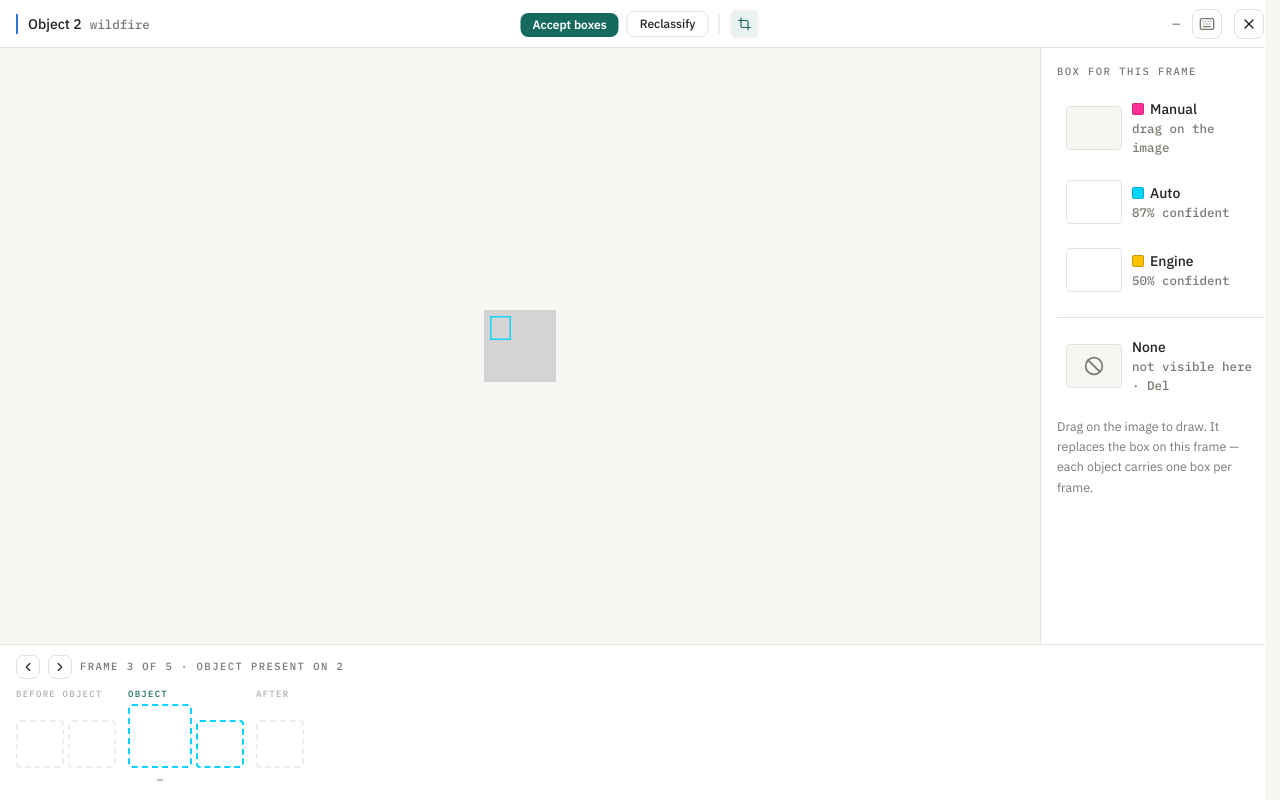
LocalizeObjectEditor › drops the preview when peeking out of range, so it is not stale on return
The width and height of the screenshot is (1280, 800).
Hover over the button with test id "source-row-engine".
mouse_move(1160, 270)  # box [1057,239,1264,301]
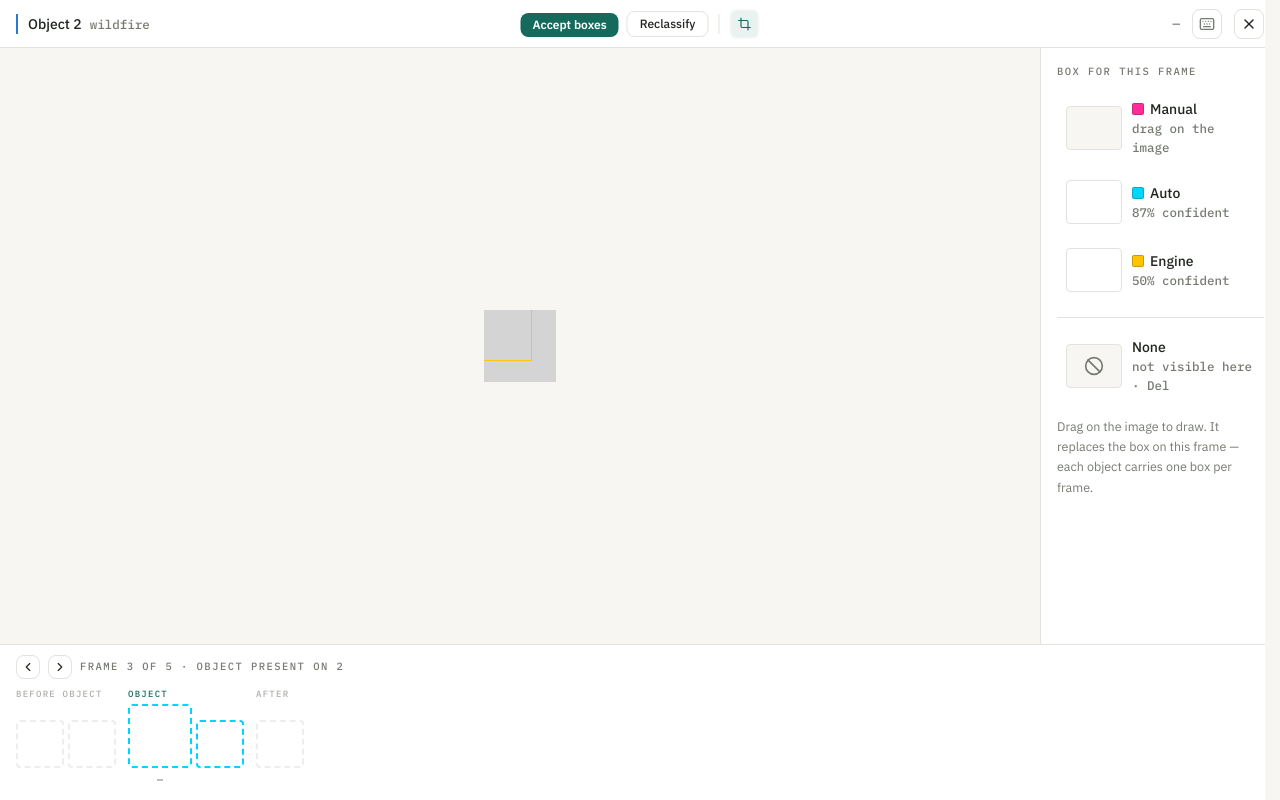
Press ArrowLeft
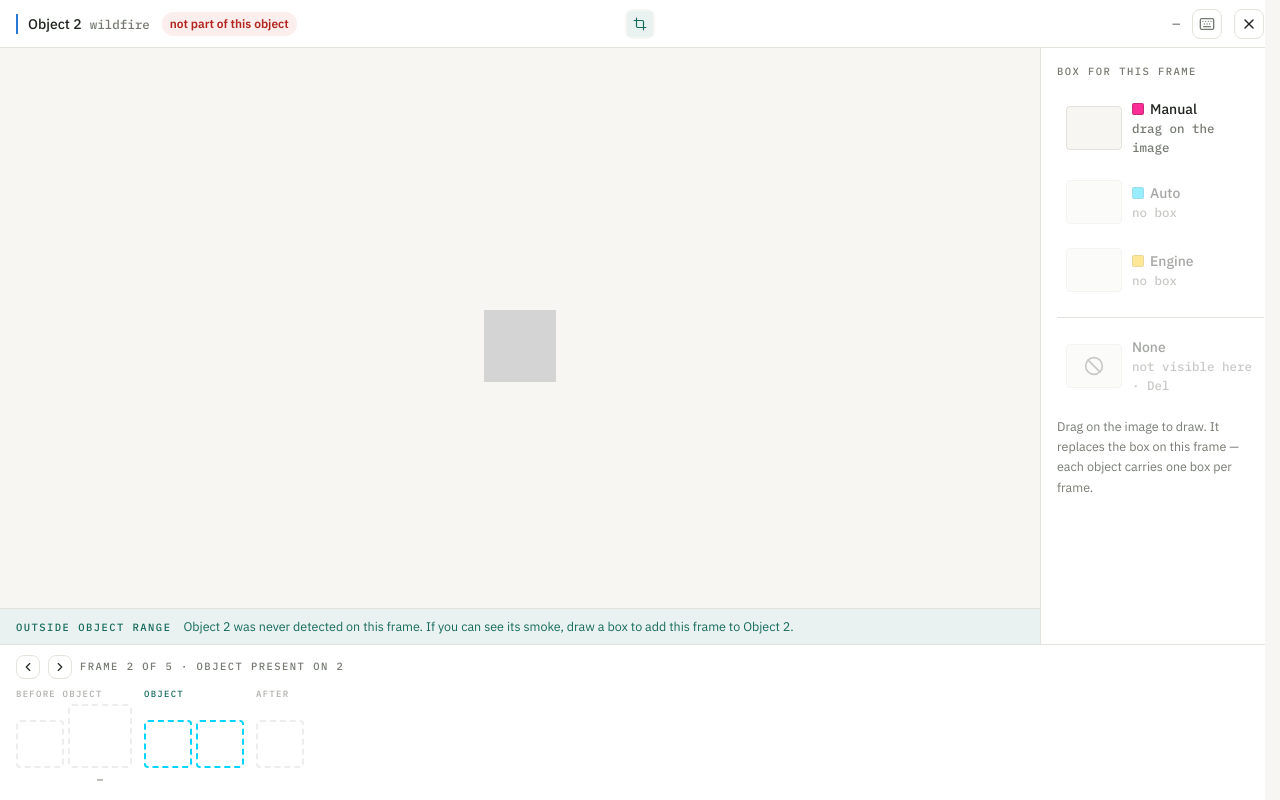
Press ArrowRight
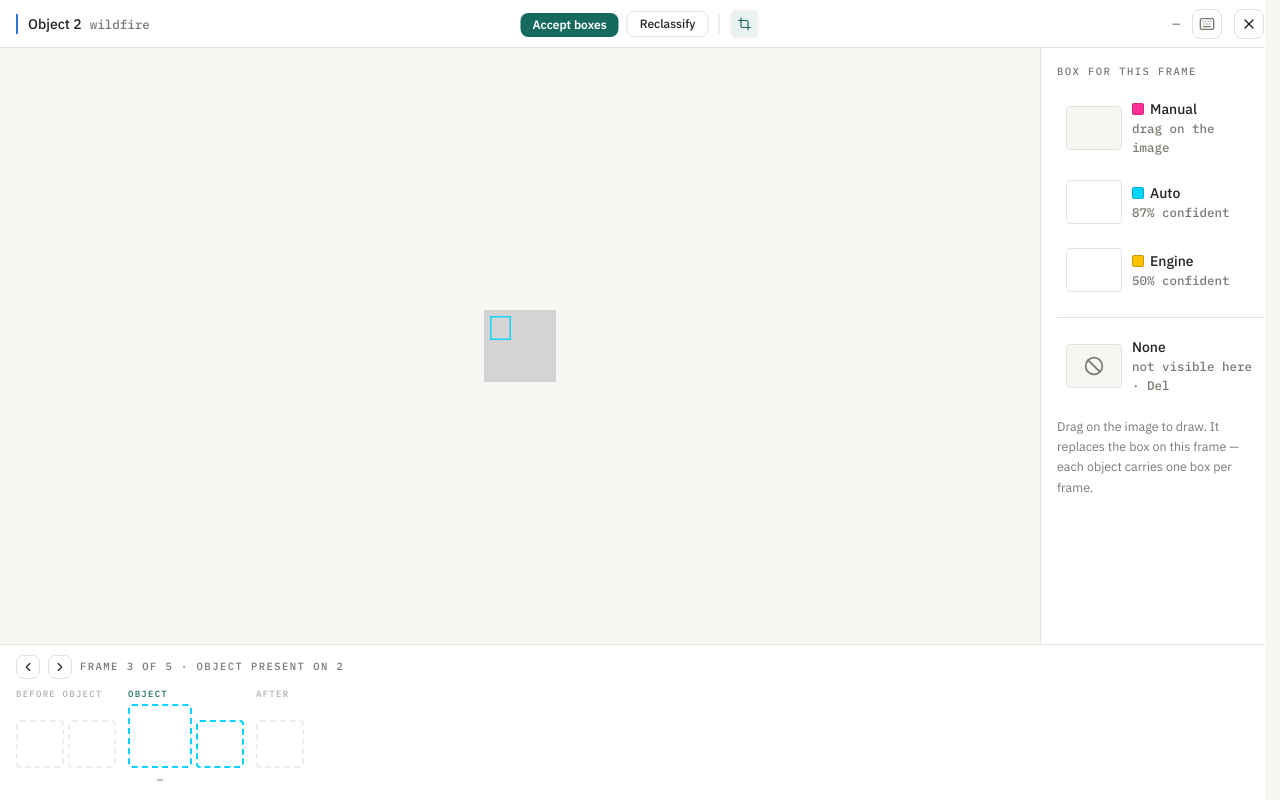
Result: the element with test id "ghost-box-auto-0" is shown at [490,317,511,338]
